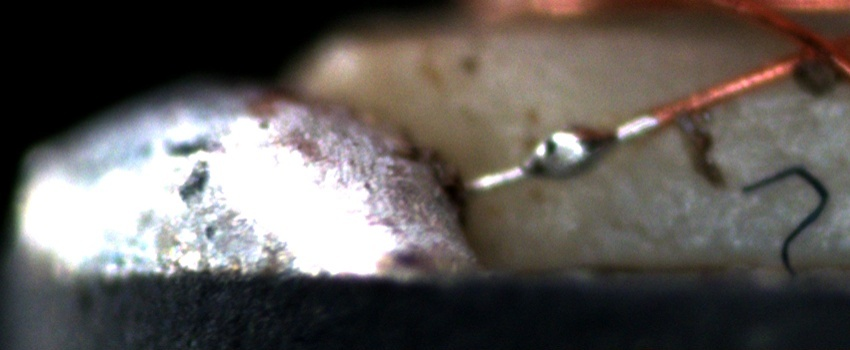TB: (520, 117, 624, 184)
TS: (466, 114, 659, 192)
TTCW: (434, 87, 706, 205)
